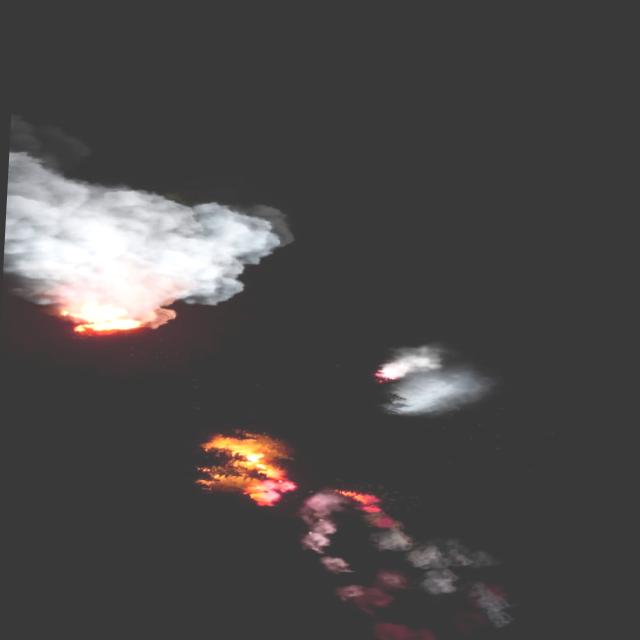fire: (200, 432, 310, 506), (72, 298, 143, 338)
smoke: (1, 152, 290, 341), (296, 488, 516, 628), (372, 338, 487, 421)
